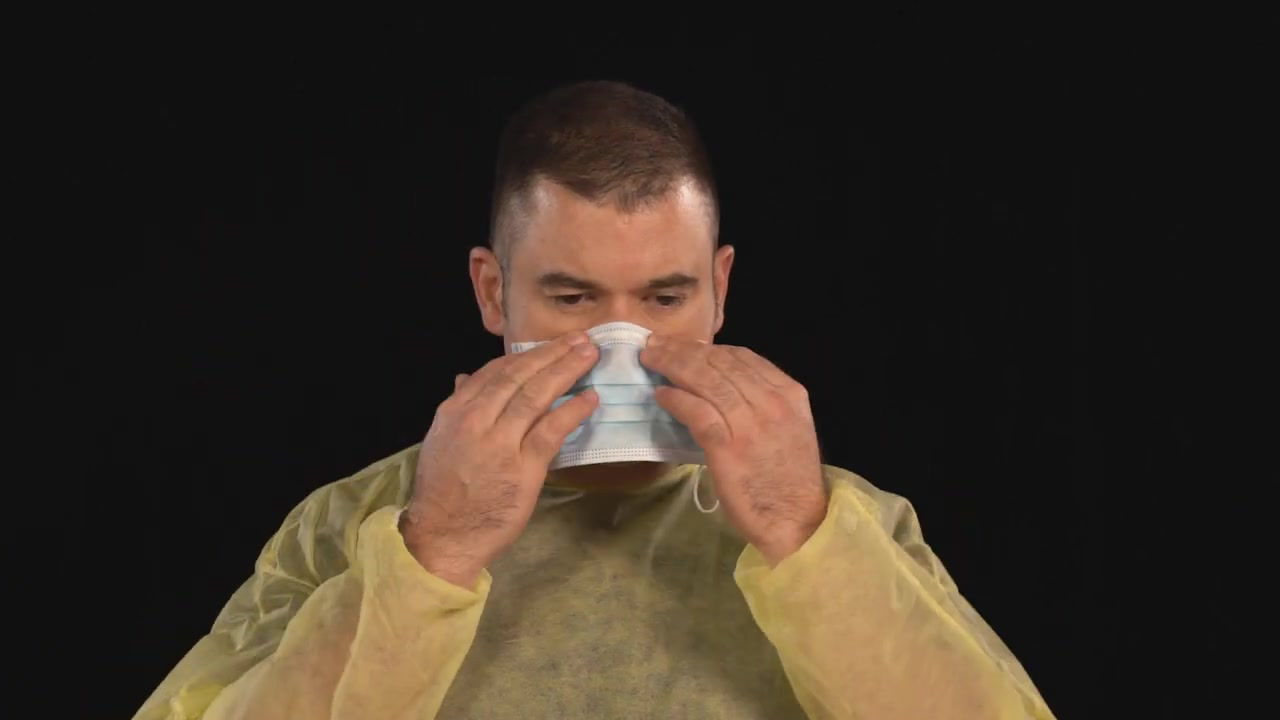Coverall: (287, 438, 1004, 720)
with_mask: (506, 291, 716, 472)
